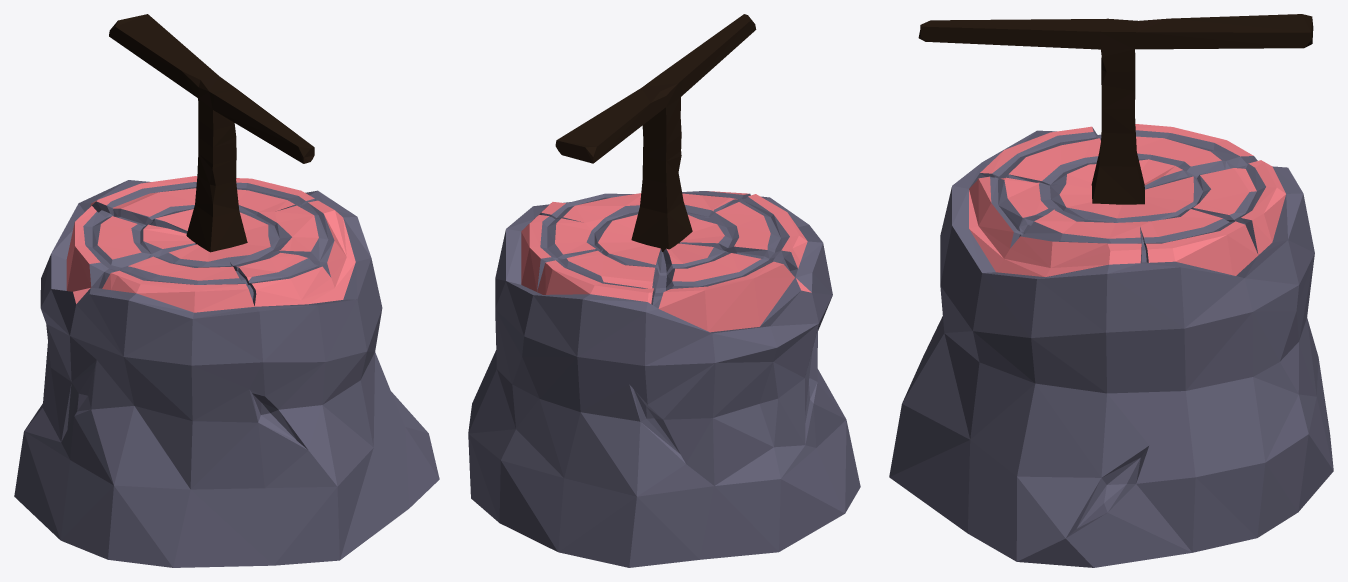
Rendered from SFFA_Log_001.fbx.
3 renders of one model, left to right at view 1: azimuth 30°, elevation 25°; view 2: azimuth 150°, elevation 25°; view 3: azimuth 270°, elevation 25°, orthographic. The views are drawn at different scales.
Parts seen in each view (by area): view 1: SFFA_Log_001; view 2: SFFA_Log_001; view 3: SFFA_Log_001.
Part boxes in pixels (box(x1,y1,x2,y2)): SFFA_Log_001: box(14, 14, 439, 567); SFFA_Log_001: box(468, 14, 860, 567); SFFA_Log_001: box(889, 14, 1333, 567).
Size of the model in its own units: 92.84 by 101 by 90.94.
